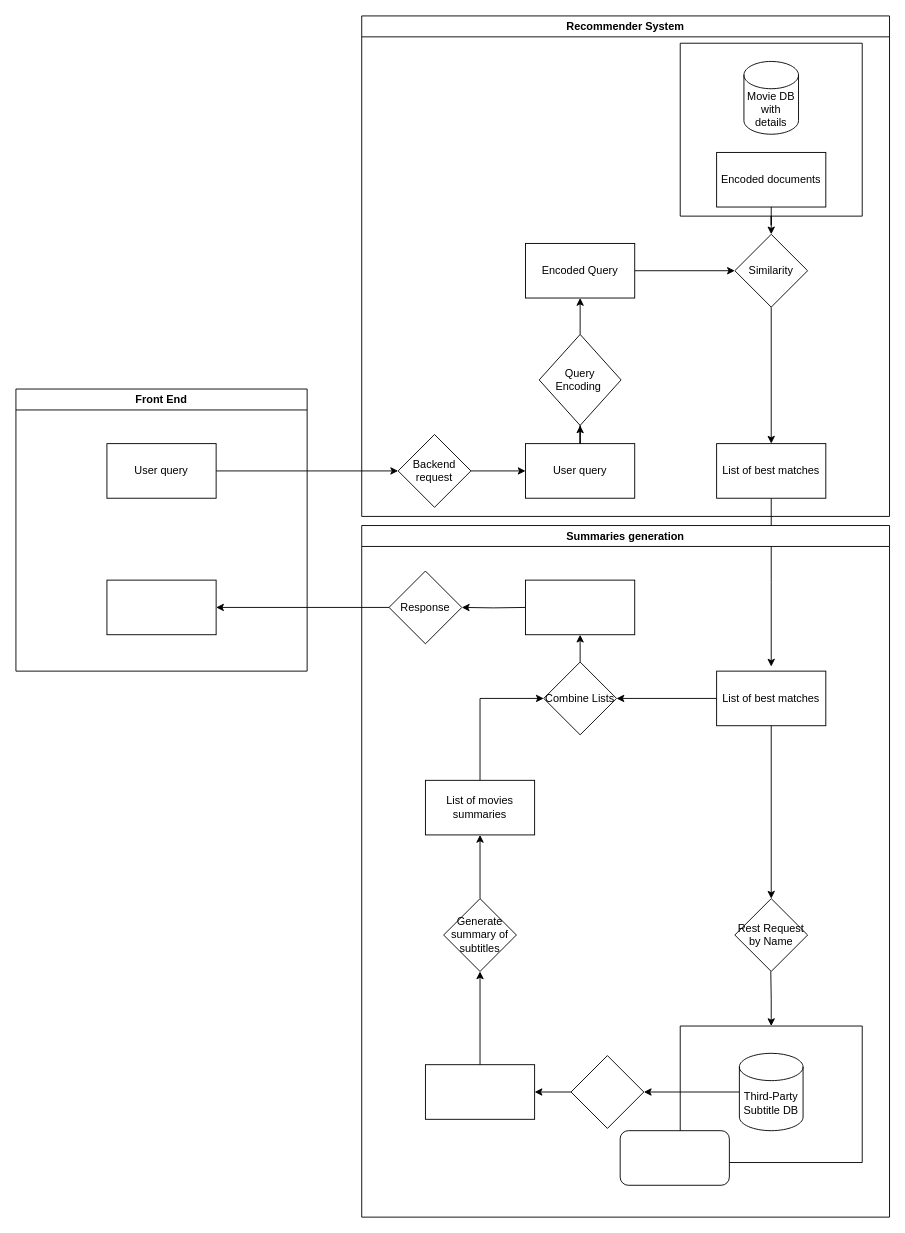
Some shapes in this 905 by 1233 pixel diagram are drawn without their labels. Each missing label, with the centre of its shape:
List of movies with summaries: [580,607]
Ordered list with summaries: [161,607]
Rest Response: [607,1091]
Subtitles of selected movies: [480,1091]
Third Party Service: [674,1157]
